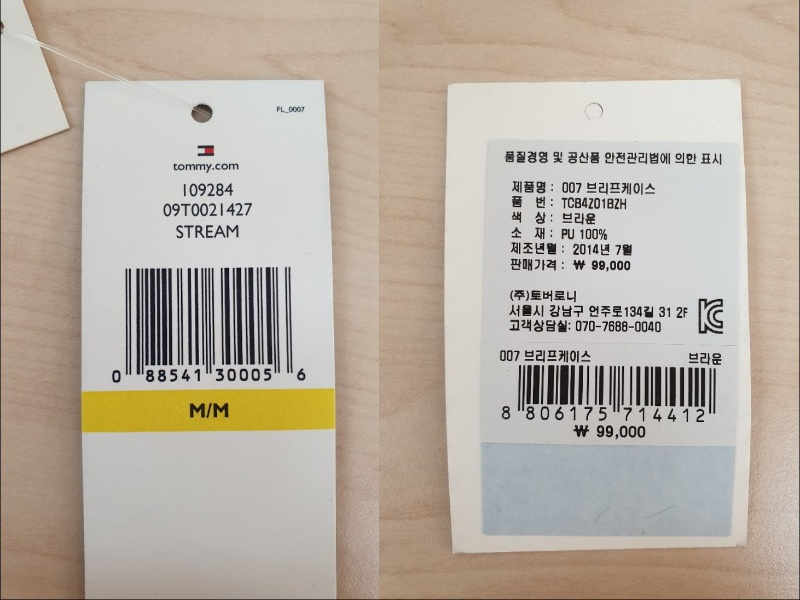tag: (440, 76, 752, 552), (80, 78, 341, 600)
text: (510, 302, 692, 335), (500, 148, 725, 168), (522, 403, 706, 423), (161, 198, 256, 220), (496, 346, 594, 367), (559, 179, 658, 197), (573, 420, 650, 441), (508, 284, 578, 305), (558, 195, 631, 214), (173, 222, 242, 242), (141, 366, 205, 386), (212, 365, 275, 385), (571, 256, 634, 275), (571, 242, 637, 259), (509, 253, 565, 273), (178, 180, 235, 199), (170, 159, 243, 173), (510, 240, 566, 258), (559, 223, 611, 242), (186, 400, 232, 421), (510, 191, 555, 212), (509, 176, 557, 195), (507, 210, 556, 227), (509, 225, 556, 242), (684, 348, 726, 367), (560, 209, 598, 229), (273, 100, 309, 118)
